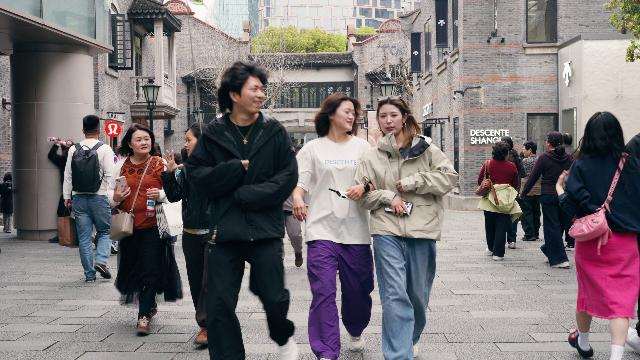person: (185, 60, 299, 360), (352, 94, 458, 360), (291, 91, 378, 360), (555, 111, 640, 360), (108, 122, 183, 335), (159, 120, 210, 350), (62, 115, 117, 282), (475, 141, 522, 260), (501, 136, 525, 250), (516, 141, 542, 241), (562, 132, 577, 251), (0, 172, 15, 234)
